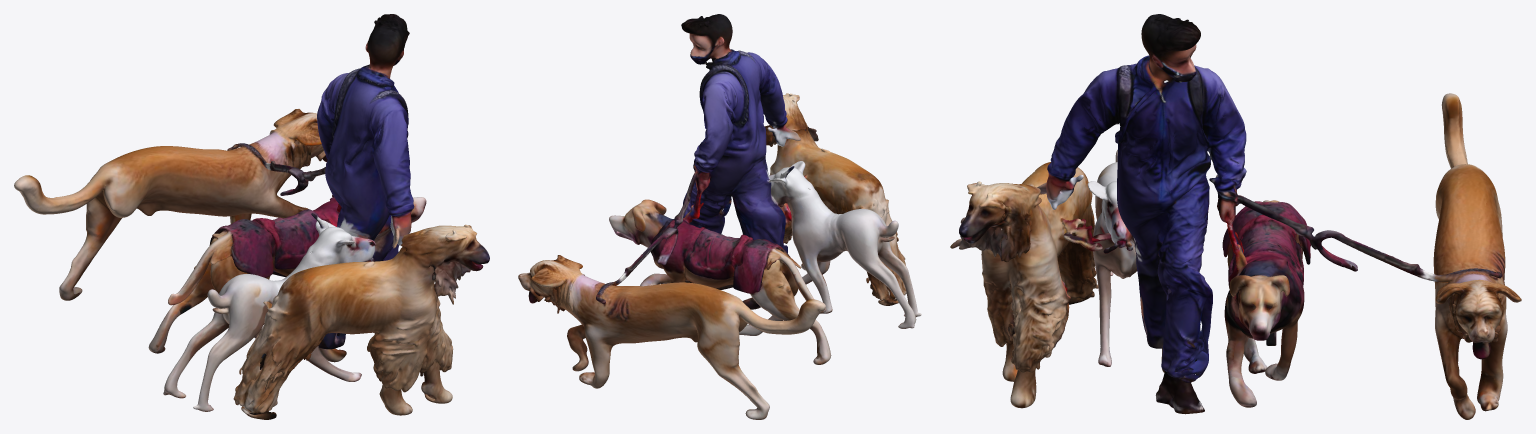
Rendered from Paseo.fbx.
The picture shows the model from 3 angles, left to right: view 1: azimuth 30°, elevation 25°; view 2: azimuth 150°, elevation 25°; view 3: azimuth 270°, elevation 25°; orthographic projection. The views are drawn at different scales.
Visible parts, largest first — view 1: tripo_node_97a49847; view 2: tripo_node_97a49847; view 3: tripo_node_97a49847.
Boxes of the visible parts, <box> form: tripo_node_97a49847: <box>14,14,489,419</box>; tripo_node_97a49847: <box>518,14,921,419</box>; tripo_node_97a49847: <box>950,14,1521,419</box>.
Size of the model in its own units: 81.5 by 75.1 by 100.
1 material, 1 textured.
